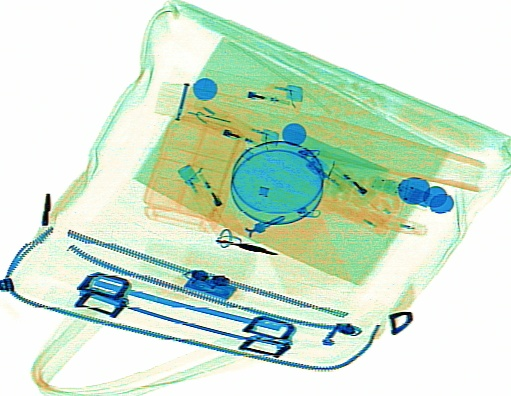lighter: (175, 96, 279, 152), (175, 159, 244, 241), (305, 147, 378, 206), (195, 72, 305, 106)
